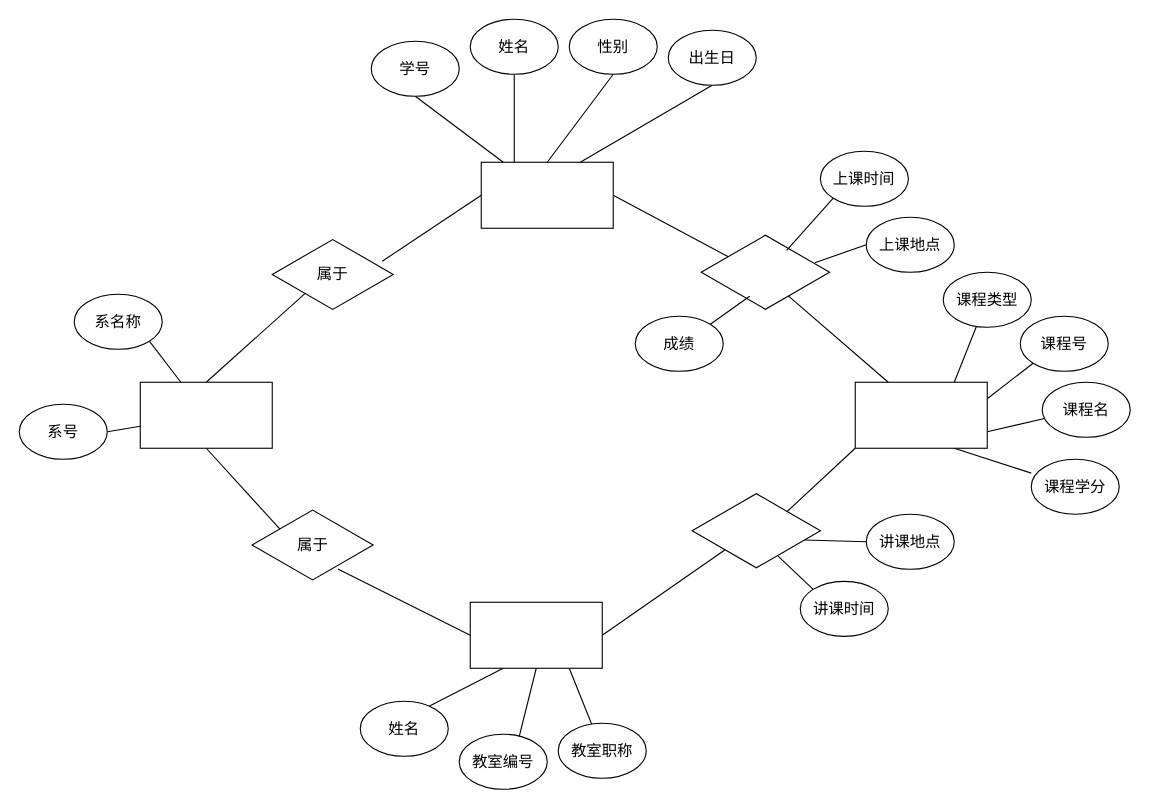
Some shapes in this 1150 by 809 pixel diagram are drawn without their labels. The shapes that lost their labels are listed below. From the top down, each one's centre as x and y in pixels, then its label:
At point 546,194: "学生".
At point 765,272: "修读".
At point 205,414: "院系".
At point 920,414: "课程".
At point 755,530: "讲授".
At point 535,634: "老师".
